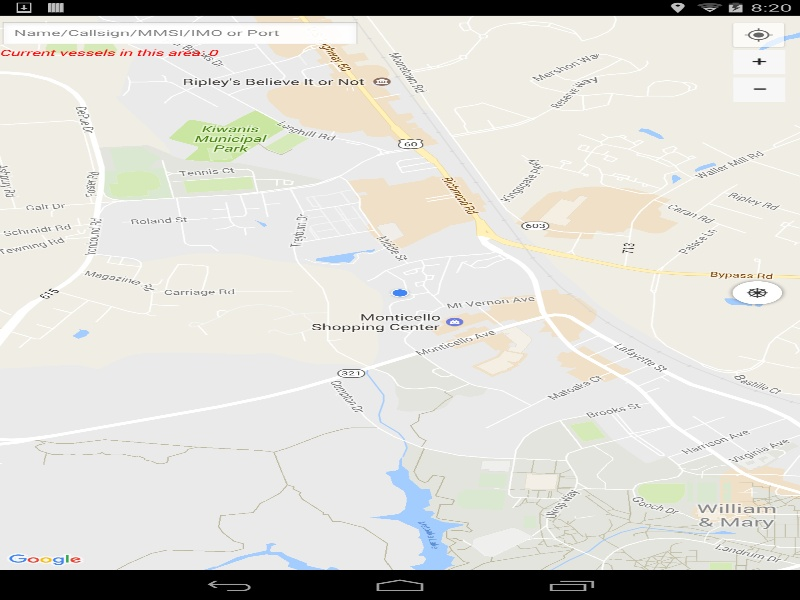Button: (733, 50, 785, 74), (733, 77, 785, 101)
Input: (0, 21, 360, 46)
